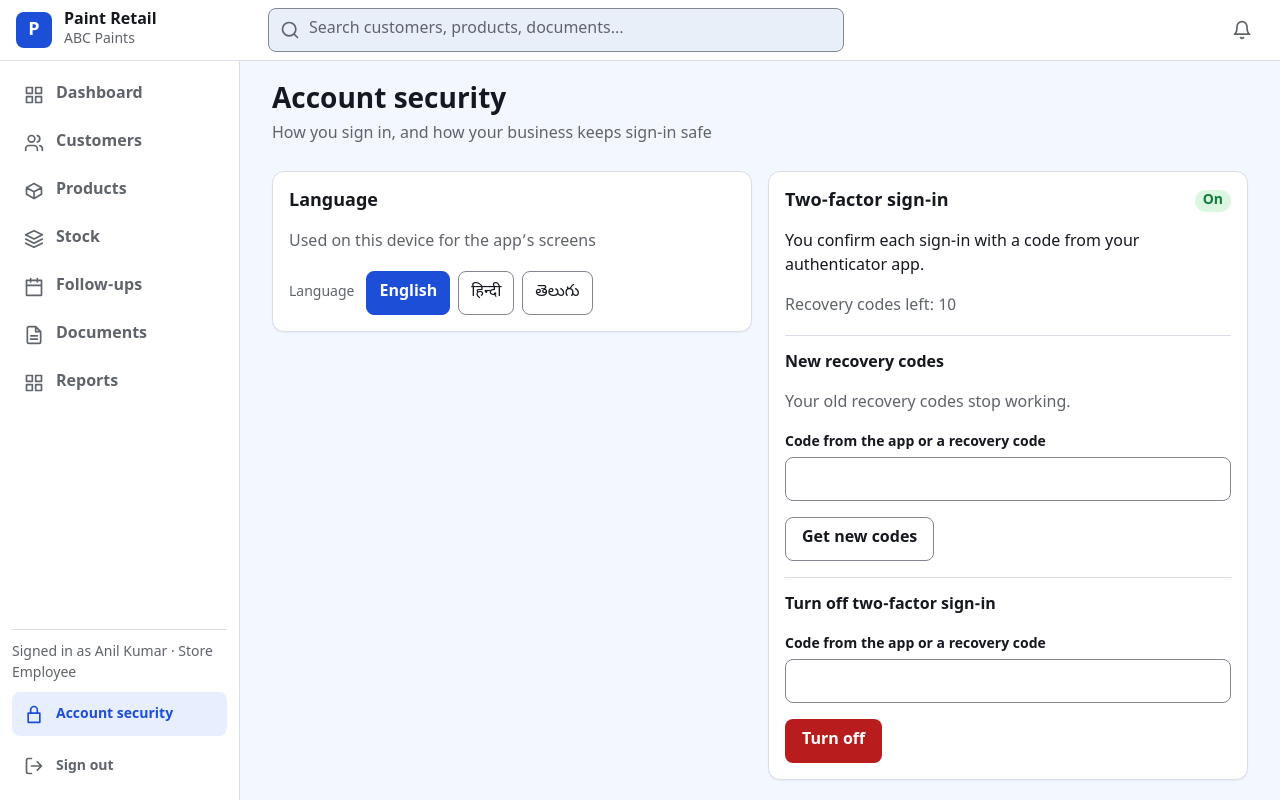
it: own two-factor sign-in › turns it off with a current code, showing field problems on the field
Type "123456" into the field labelled "Code from the app or a recovery code" below "Turn off two-factor sign-in". click: (1008, 681)
box: [785,659,1231,703]
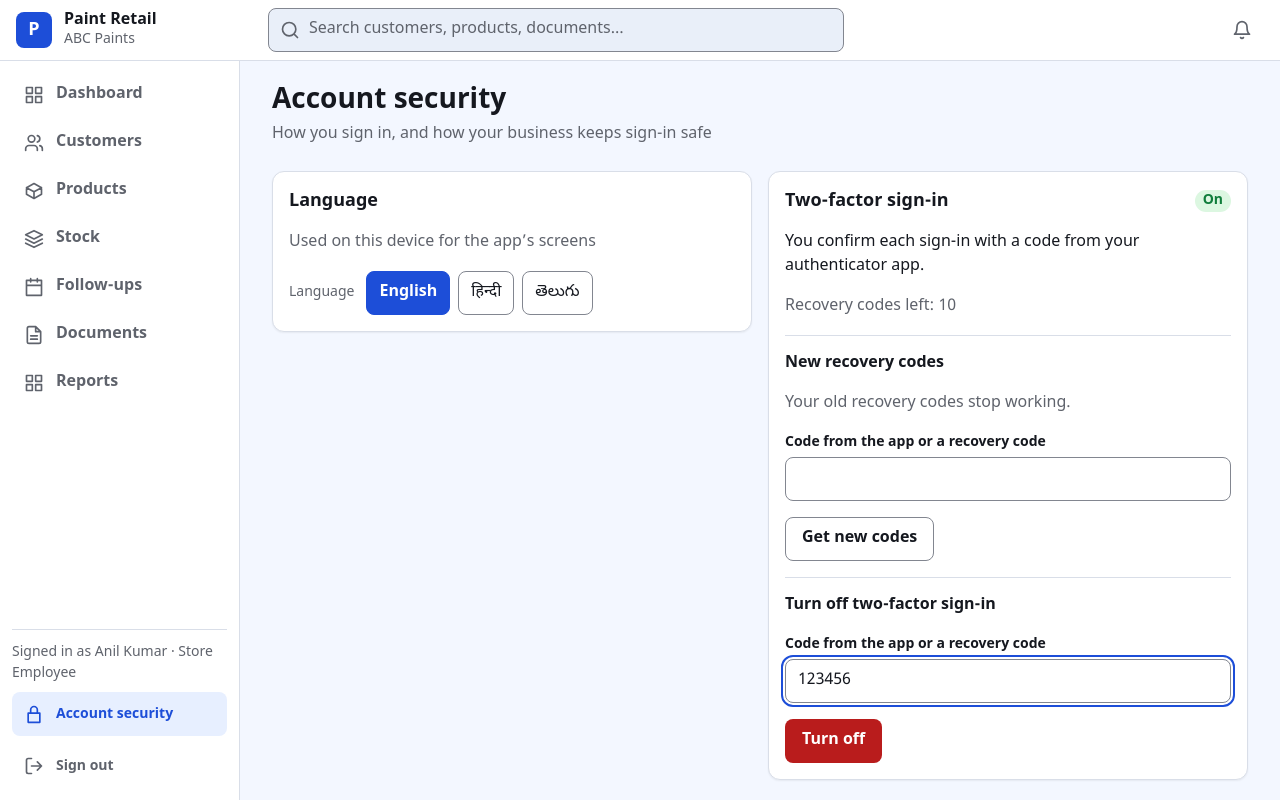
Click the button "Turn off". click: (834, 741)
box: [785,719,882,763]
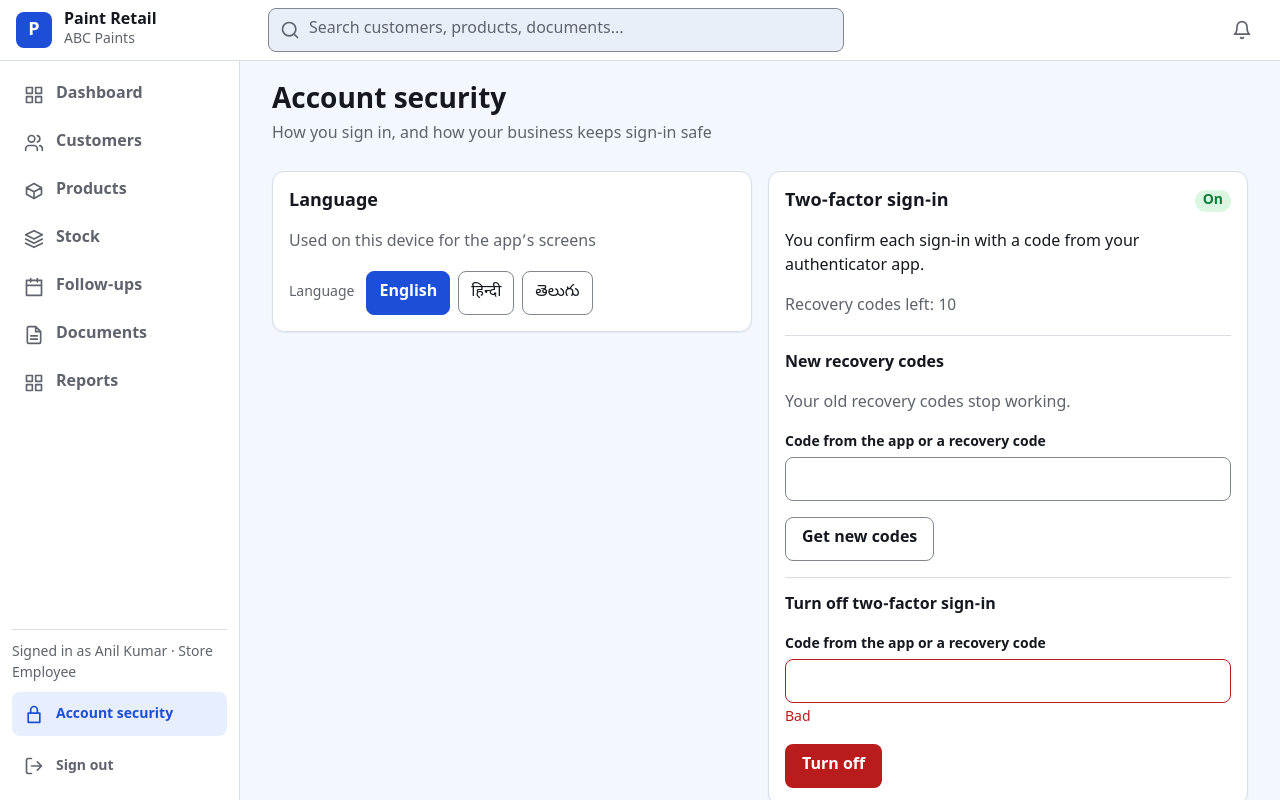
Now the text "Bad" is shown, box [785,708,811,727]
Type "654321" into the field labelled "Code from the app or a recovery code" below "Turn off two-factor sign-in". click: (1008, 681)
box: [785,659,1231,703]
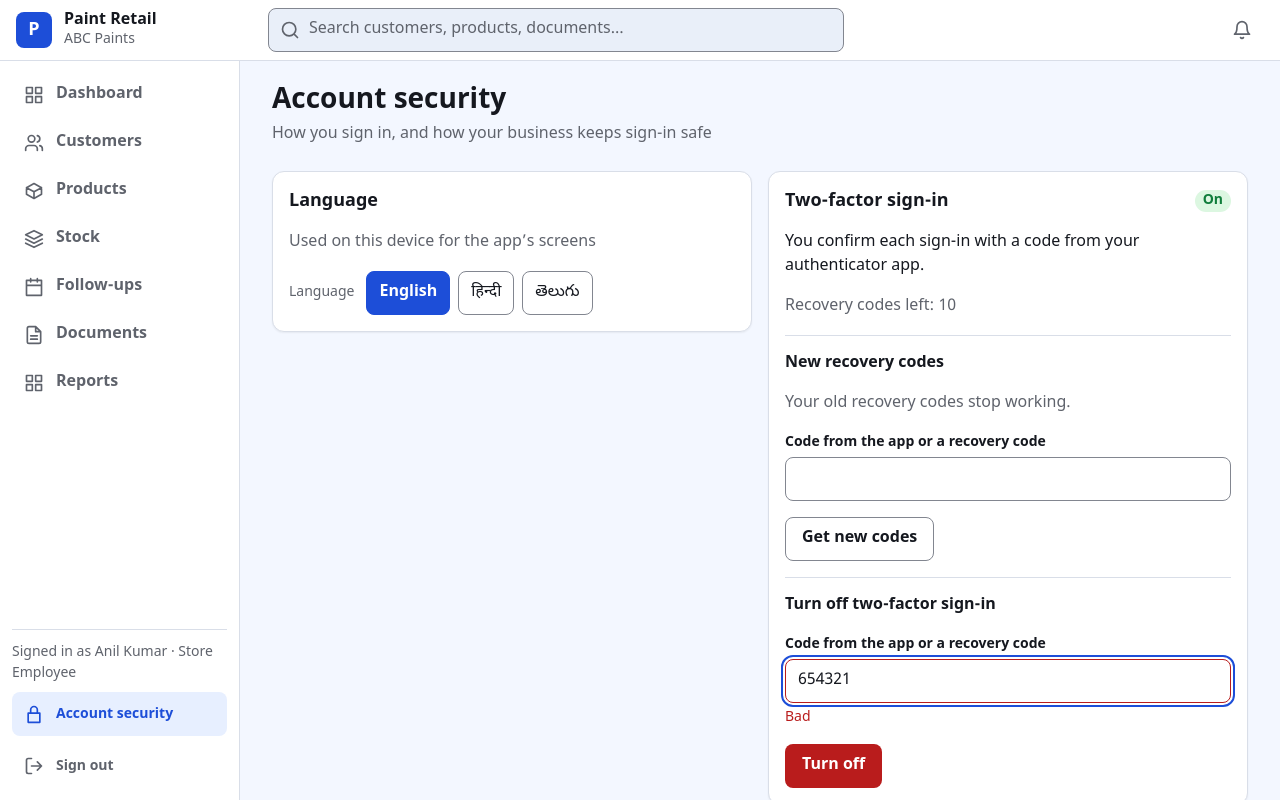
Click the button "Turn off". click: (834, 766)
box: [785,744,882,788]
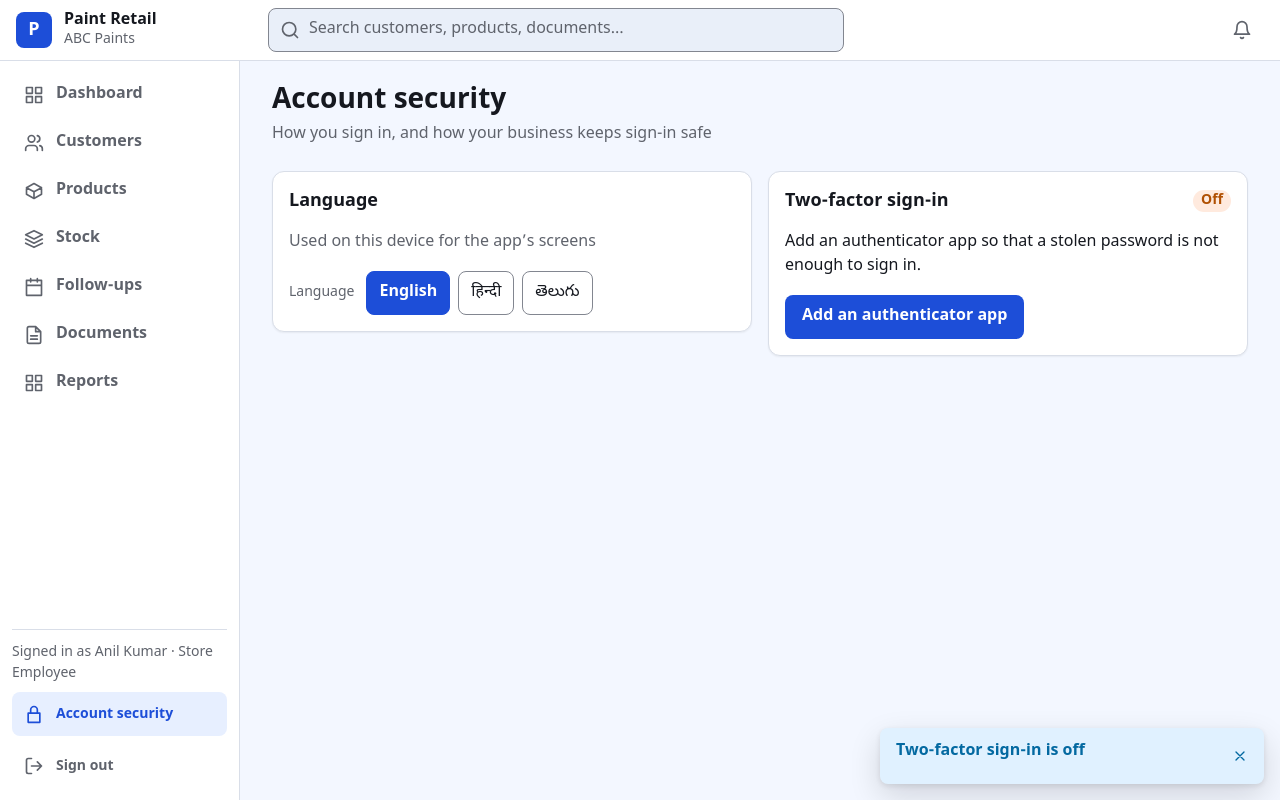
Now the text "Two-factor sign-in is off" is shown, box [896,741,1085,762]
Now the button "Add an authenticator app" is shown, box [785,295,1024,339]
